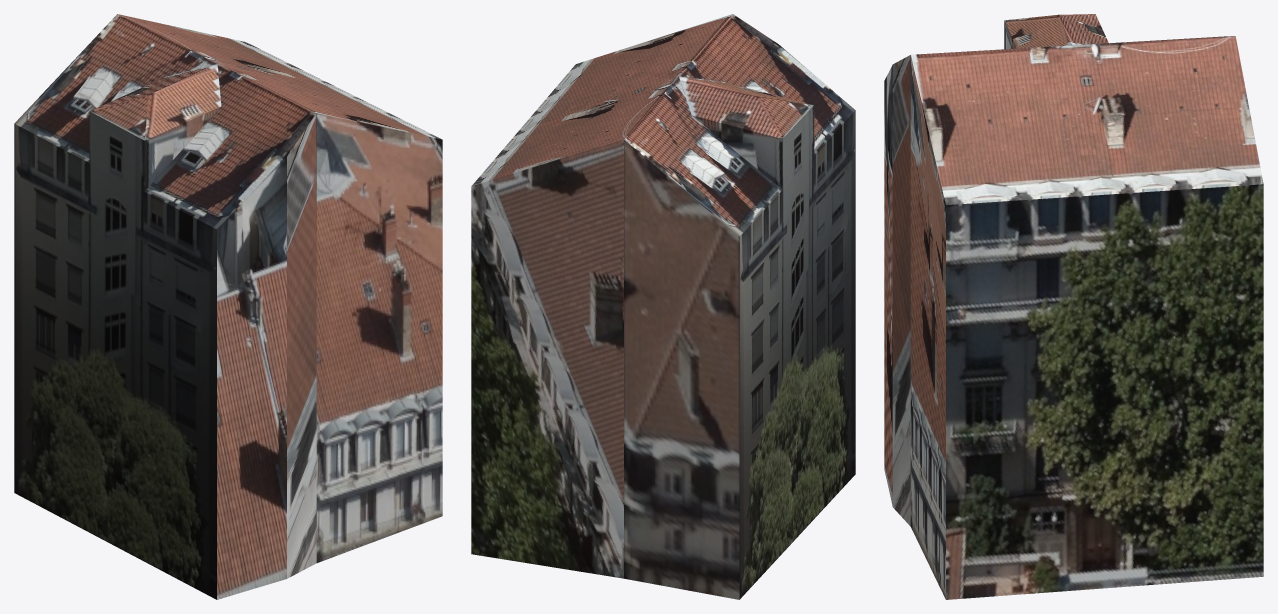
The picture shows the model from 3 angles, left to right: view 1: azimuth 30°, elevation 25°; view 2: azimuth 150°, elevation 25°; view 3: azimuth 270°, elevation 25°; orthographic projection. The views are drawn at different scales.
Parts seen in each view (by area): view 1: Z_UP; view 2: Z_UP; view 3: Z_UP.
Boxes of the visible parts, x1,y1,x2,y2 form: Z_UP: [14, 14, 442, 599]; Z_UP: [471, 14, 855, 599]; Z_UP: [884, 14, 1263, 599].
Bounding box in the file's own units: 19.34 × 27.96 × 20.36.
Materials: 2 (1 with a texture image).
